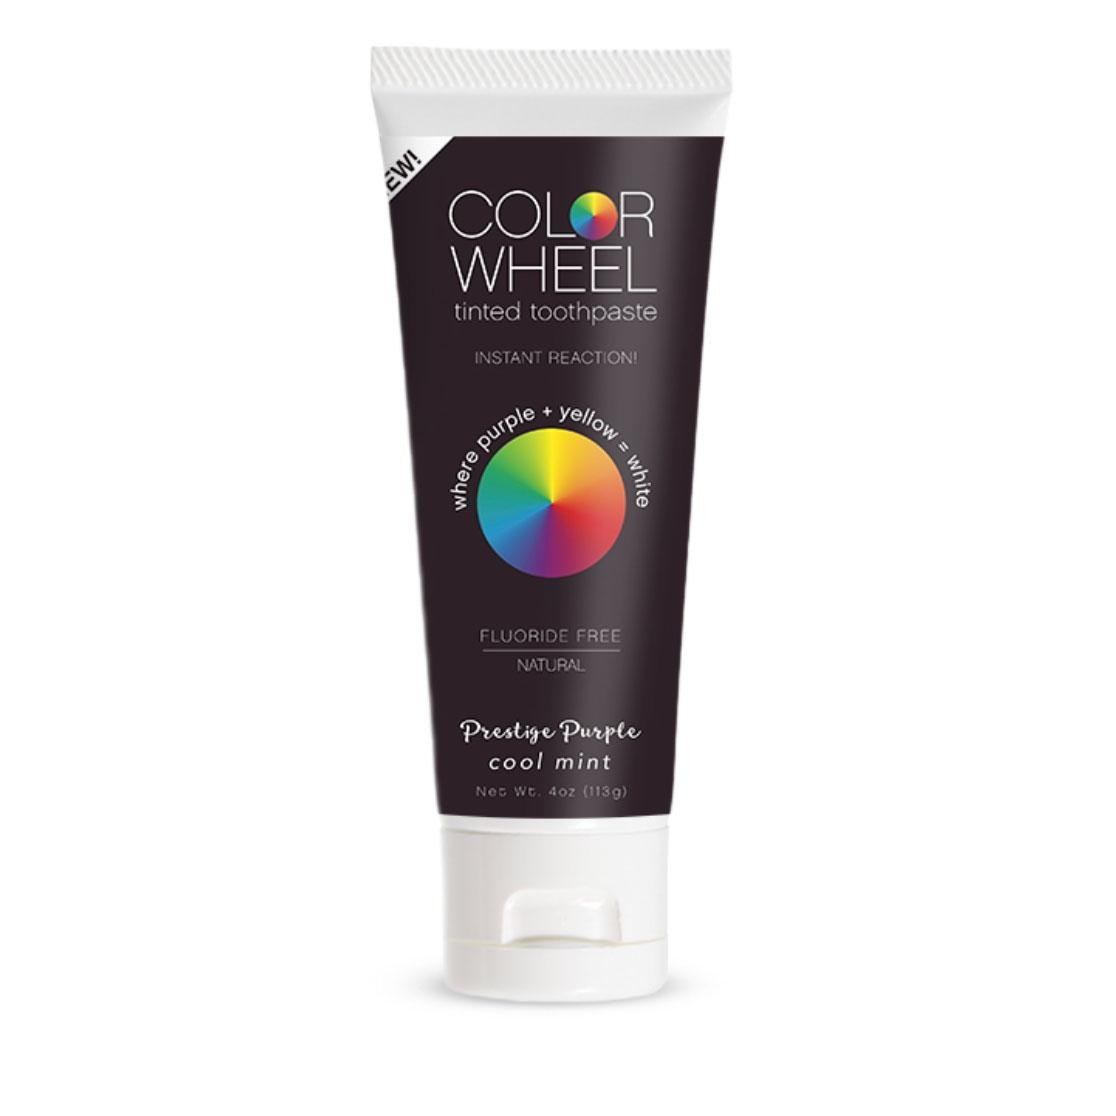toothpaste: (353, 39, 719, 1027)
